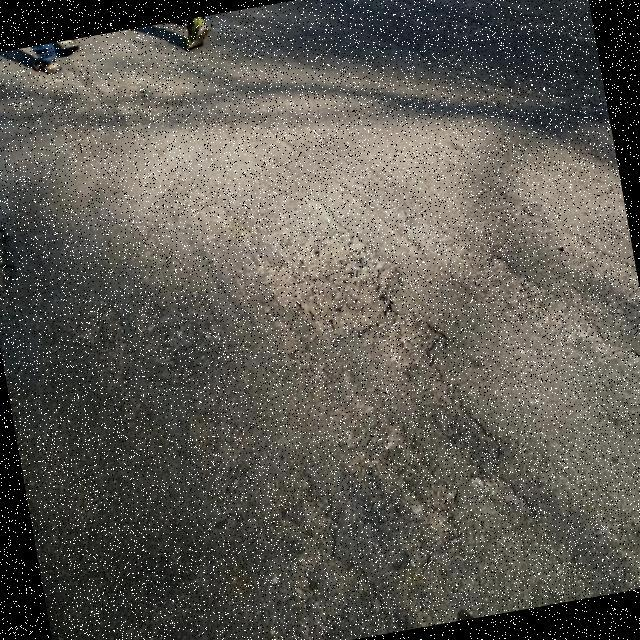Pothole: (264, 231, 457, 396)
